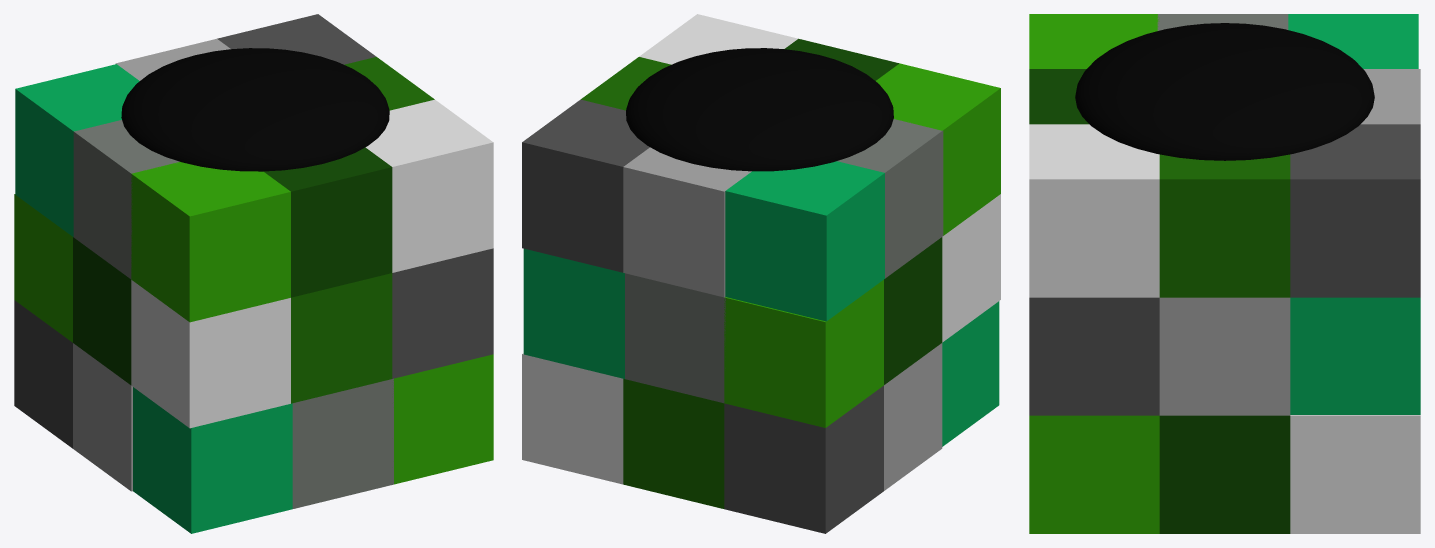
File: button_dipti.fbx
The picture shows the model from 3 angles, left to right: view 1: azimuth 30°, elevation 25°; view 2: azimuth 150°, elevation 25°; view 3: azimuth 270°, elevation 25°; orthographic projection. The views are drawn at different scales.
Visible parts, largest first — view 1: cube; view 2: cube; view 3: cube.
Boxes of the visible parts, bbox=[...] form: cube: bbox=[14, 14, 493, 533]; cube: bbox=[522, 14, 1000, 533]; cube: bbox=[1029, 14, 1420, 533].
Bounding box in the file's own units: 9 × 10 × 9.
